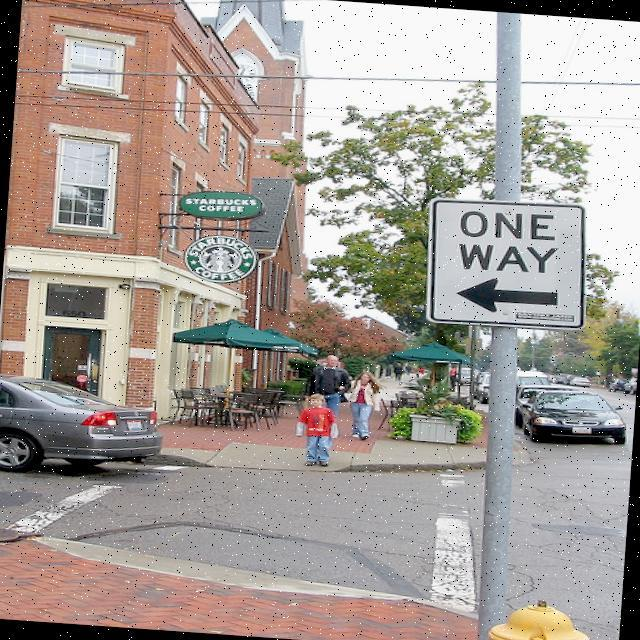fire_hydrant: (485, 594, 596, 640)
